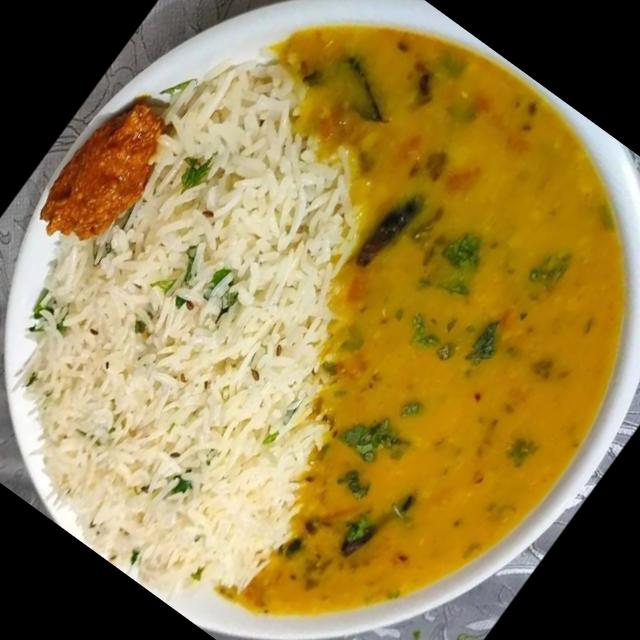dal: (223, 20, 632, 617)
rice: (29, 64, 348, 588)
